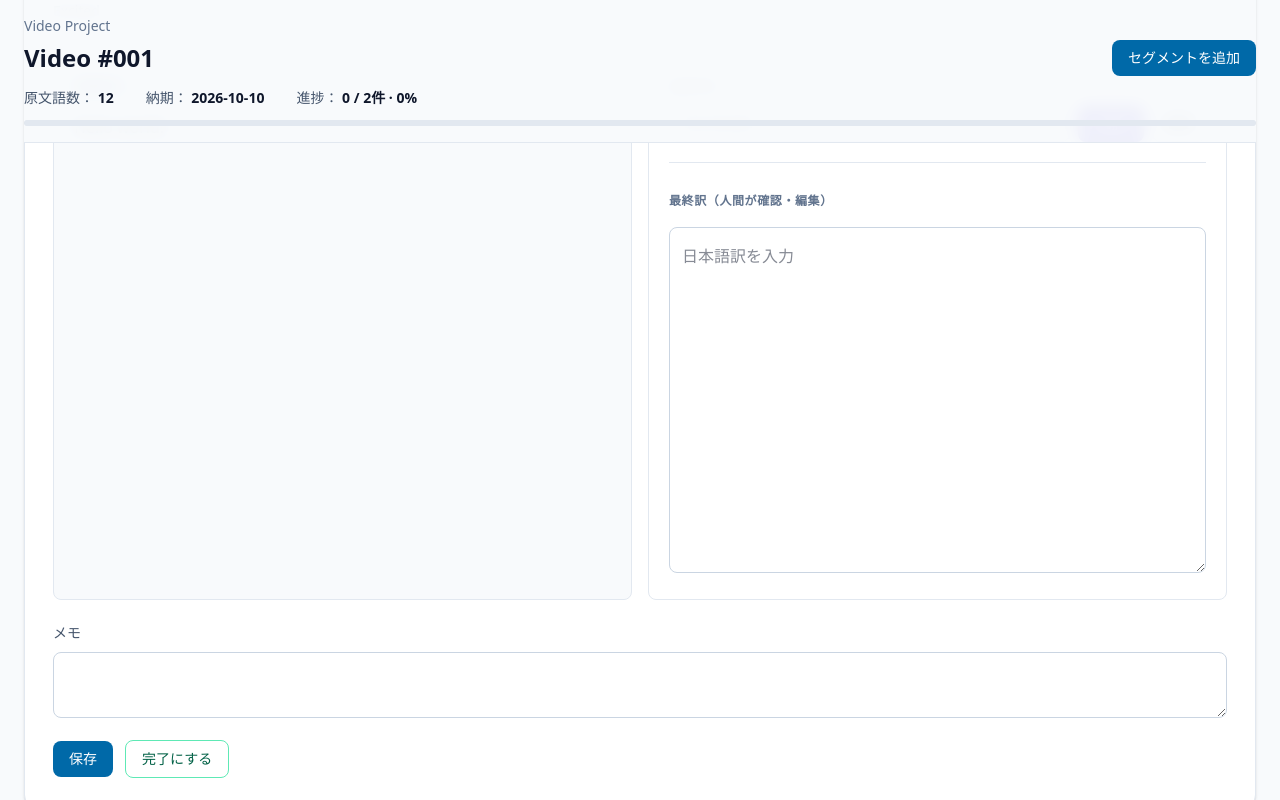
it: keeps draft text visible after a save error
(page scrolled)
Type "未保存の訳" into the text box labelled "最終訳（人間が確認・編集）".
click(938, 400); type("未保存の訳")  # box [669,227,1206,573]
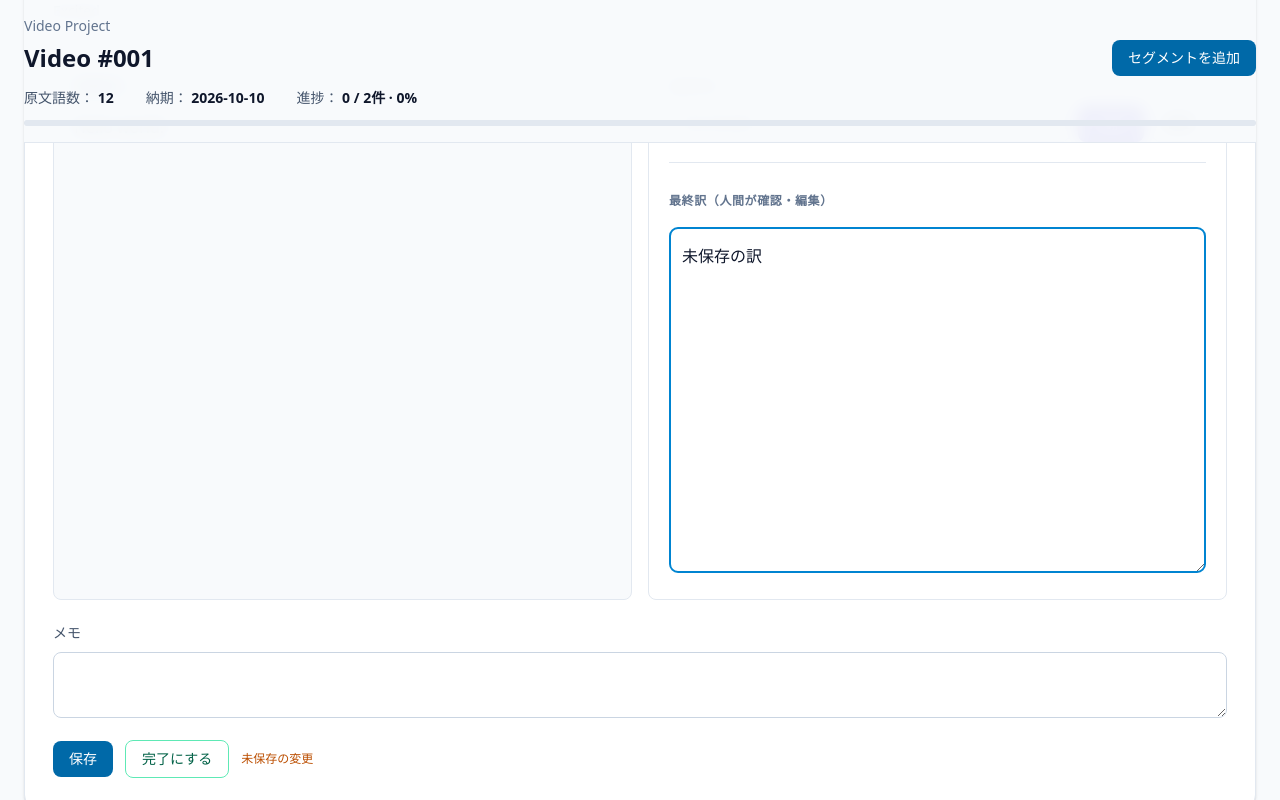
Click the button "保存".
click(83, 759)  # box [53,741,113,777]
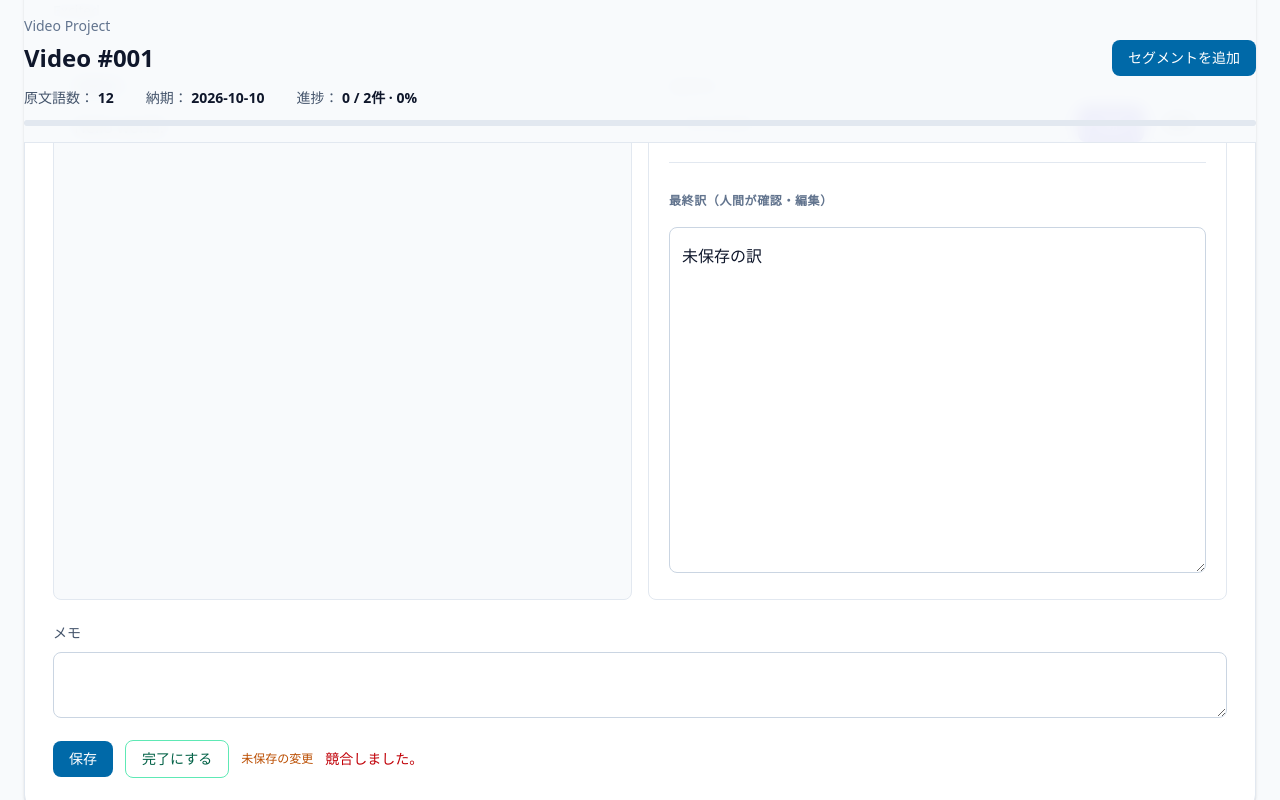
Expected: the message reads "競合しました。", [325,749,423,768]
